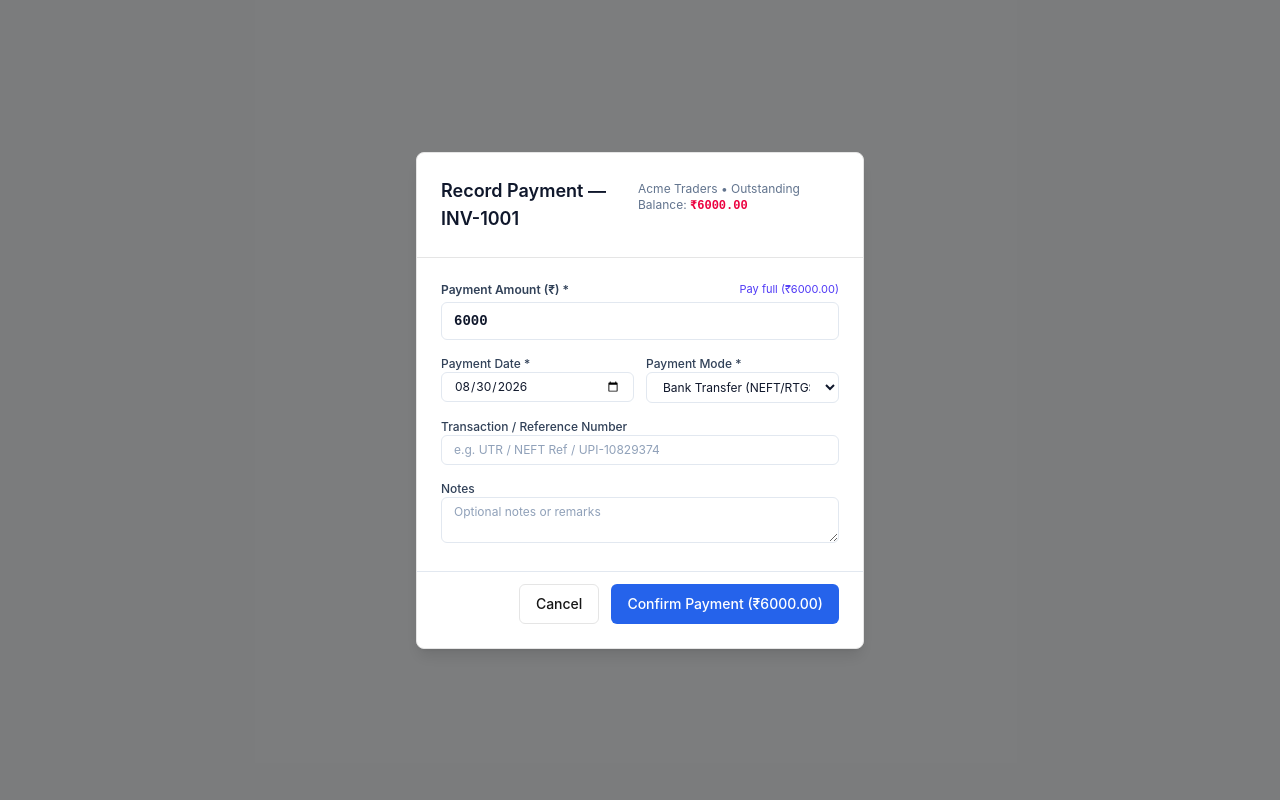
RecordPaymentModal › shows an error when amount exceeds outstanding balance
Replace the text in the number field with "9999999" at (640, 320), box [441,302,839,340]
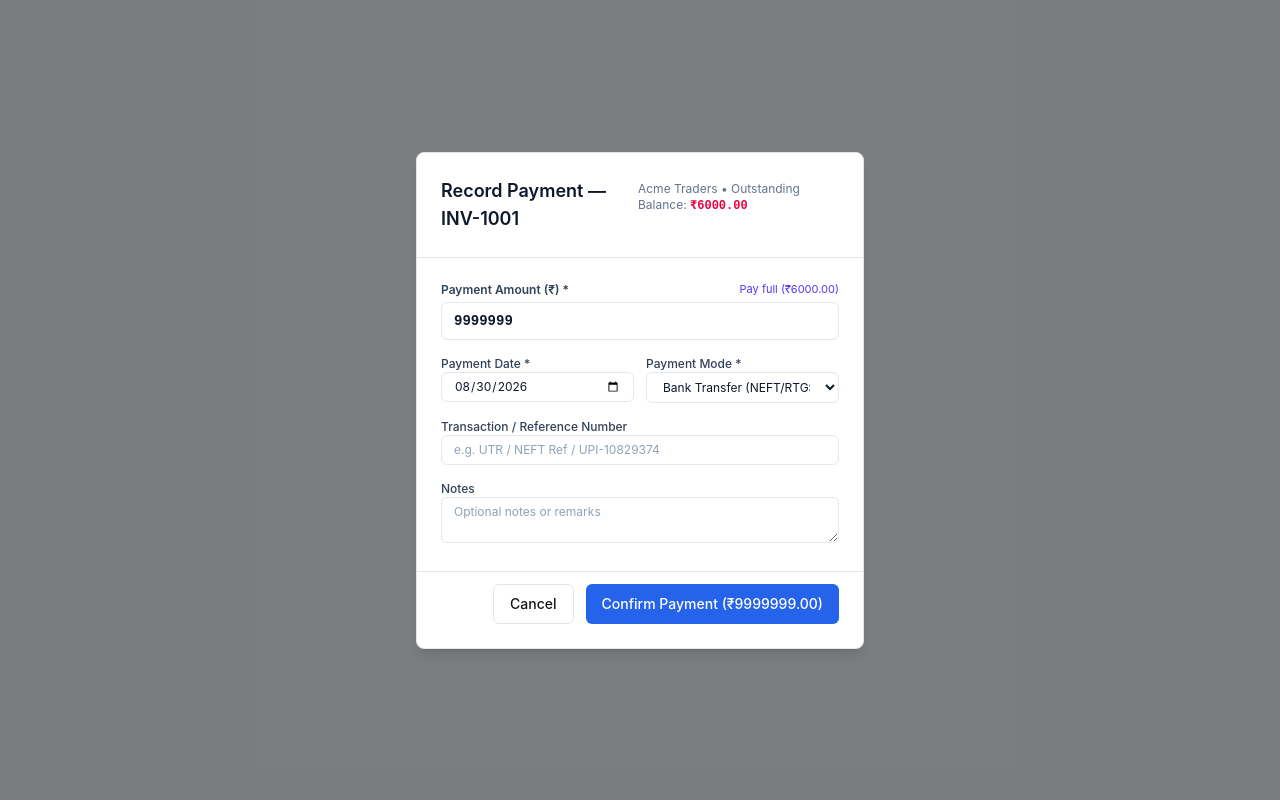
Click the button "Confirm Payment (₹9999999.00)".
click(712, 604)  # box [586,584,839,624]
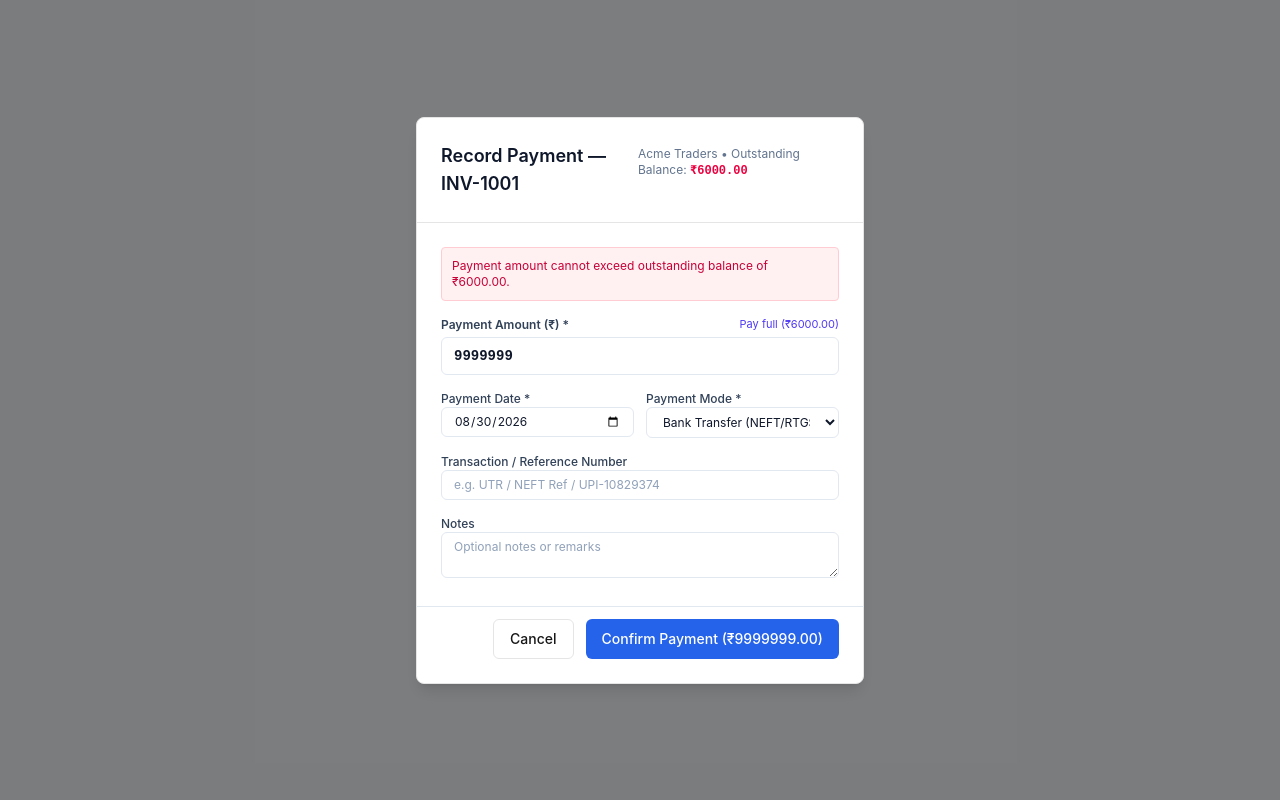
Now the text "cannot exceed outstanding balance" is shown, box [452,258,768,288]
